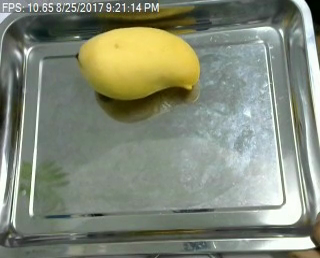Mango: (76, 26, 204, 100)
